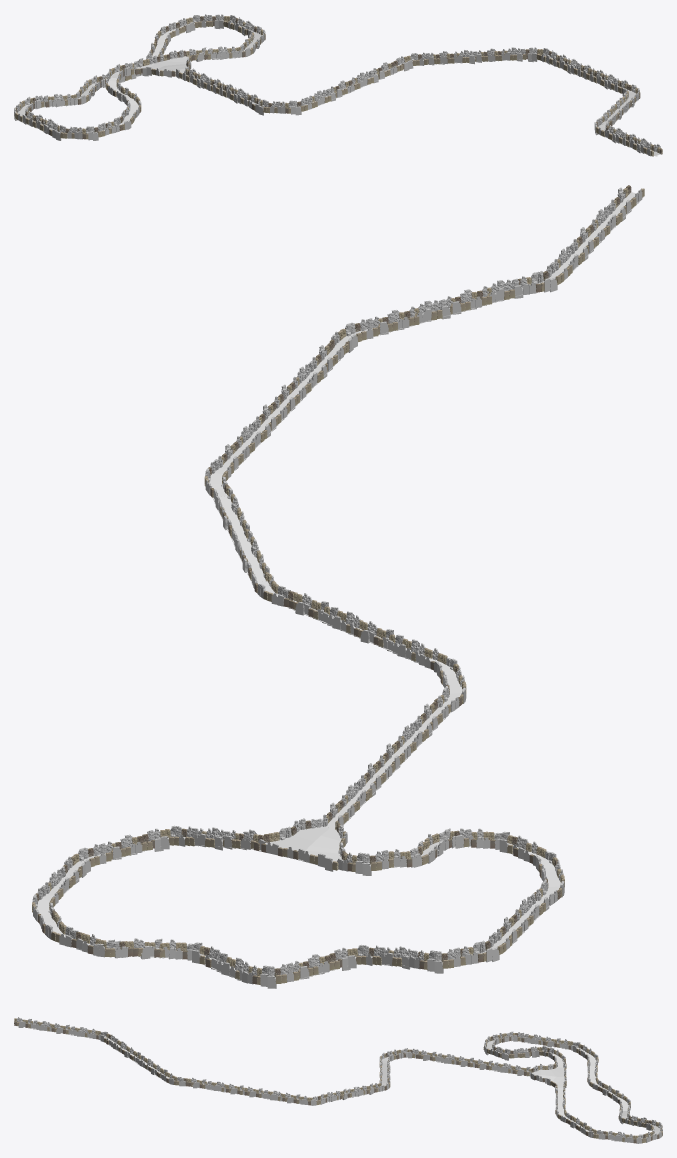
The model's file is AA_Level1_FINISH.fbx.
3 renders of one model, top to bottom at view 1: azimuth 30°, elevation 25°; view 2: azimuth 150°, elevation 25°; view 3: azimuth 270°, elevation 25°, orthographic. The views are drawn at different scales.
Parts seen in each view (by area): view 1: Ground.103; view 2: Ground.103; view 3: Ground.103.
Boxes of the visible parts, x1,y1,x2,y2 form: Ground.103: (136, 56, 192, 75); Ground.103: (259, 826, 341, 865); Ground.103: (532, 1067, 564, 1087).
Size of the model in its own units: 33809 by 16947 by 67887.
